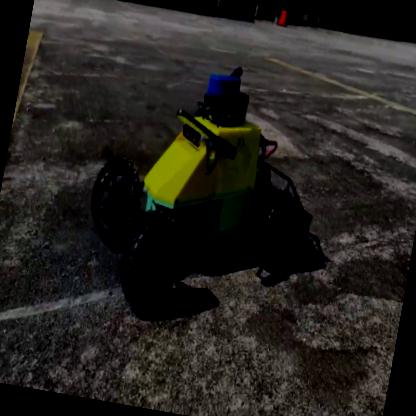cone: (276, 10, 290, 29)
mushr_car: (65, 40, 339, 350)
